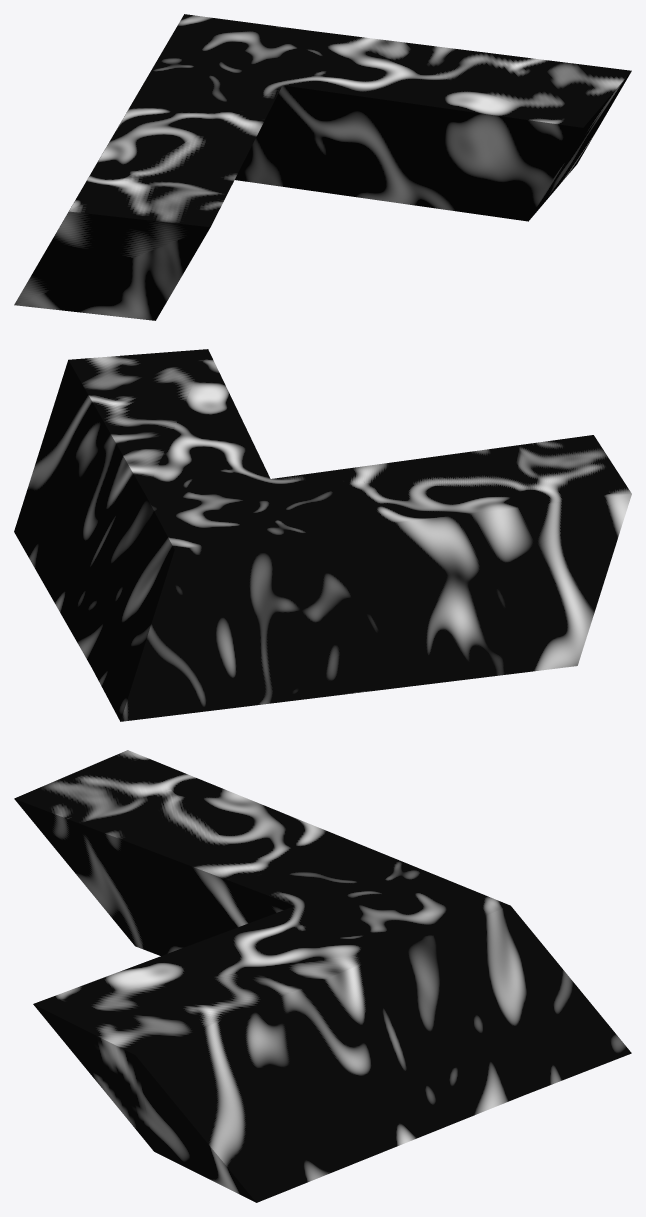
File: WeirdPointShip.gltf
3 views of the same model, one above another, from view 1: azimuth 30°, elevation 25°; view 2: azimuth 150°, elevation 25°; view 3: azimuth 270°, elevation 25° (orthographic). The views are drawn at different scales.
Visible parts, largest first — view 1: Plane; view 2: Plane; view 3: Plane.
Boxes of the visible parts, <box> form: Plane: <box>14,14,631,320</box>; Plane: <box>14,349,631,721</box>; Plane: <box>14,750,631,1202</box>.
Bounding box in the file's own units: 1.54 × 0.3483 × 1.32.
Materials: 1 (1 with a texture image).
